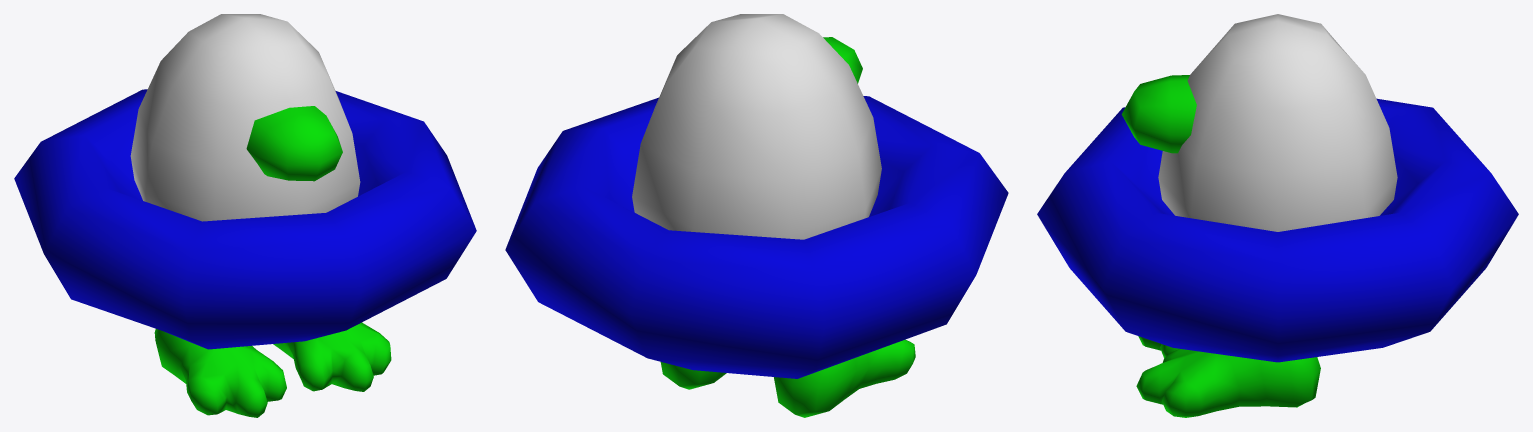
File: Unhatchling.fbx
The picture shows the model from 3 angles, left to right: view 1: azimuth 30°, elevation 25°; view 2: azimuth 150°, elevation 25°; view 3: azimuth 270°, elevation 25°; orthographic projection. The views are drawn at different scales.
Parts seen in each view (by area): view 1: Unhatchling, Unhatchling_Head; view 2: Unhatchling, Unhatchling_Head; view 3: Unhatchling, Unhatchling_Head.
Boxes of the visible parts, <box> form: Unhatchling: <box>14,89,476,417</box>; Unhatchling_Head: <box>130,14,360,221</box>; Unhatchling: <box>505,37,1008,417</box>; Unhatchling_Head: <box>632,14,881,239</box>; Unhatchling: <box>1037,75,1518,417</box>; Unhatchling_Head: <box>1158,14,1397,231</box>.
Bounding box in the file's own units: 145 × 145 × 119.
